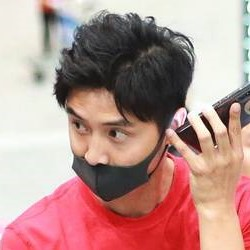mask: (68, 137, 154, 206)
